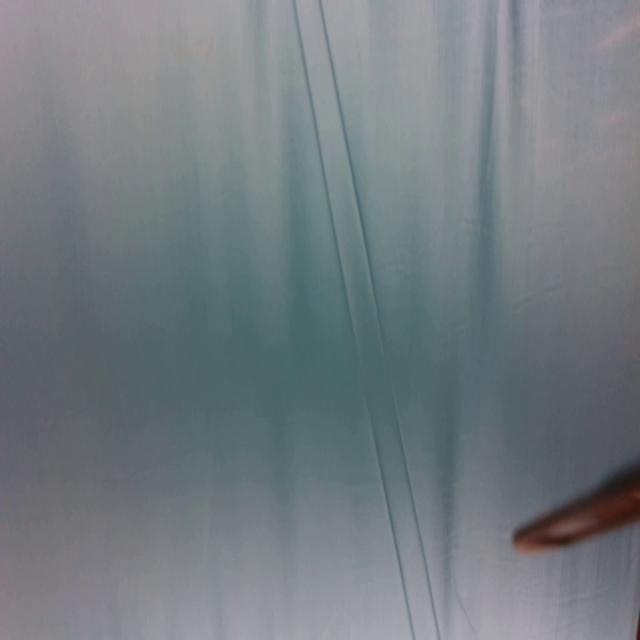crease: (291, 0, 442, 636)
